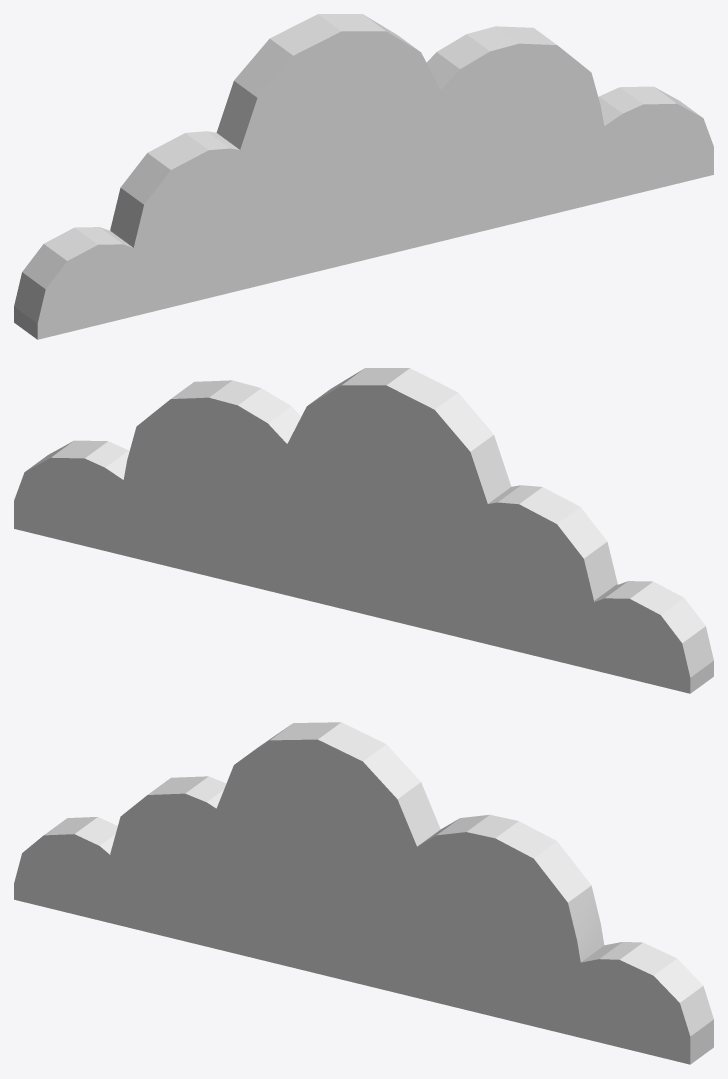
The model's file is cartoon_cloud_6.fbx.
3 views of the same model, one above another, from view 1: azimuth 30°, elevation 25°; view 2: azimuth 150°, elevation 25°; view 3: azimuth 330°, elevation 25° (orthographic).
Visible parts, largest first — view 1: cloud_76; view 2: cloud_76; view 3: cloud_76.
Part boxes in pixels (x1=…): cloud_76: x1=14, y1=14, x2=713, y2=339; cloud_76: x1=14, y1=368, x2=713, y2=693; cloud_76: x1=14, y1=722, x2=713, y2=1064.
Bounding box in the file's own units: 331 × 109 × 20.
